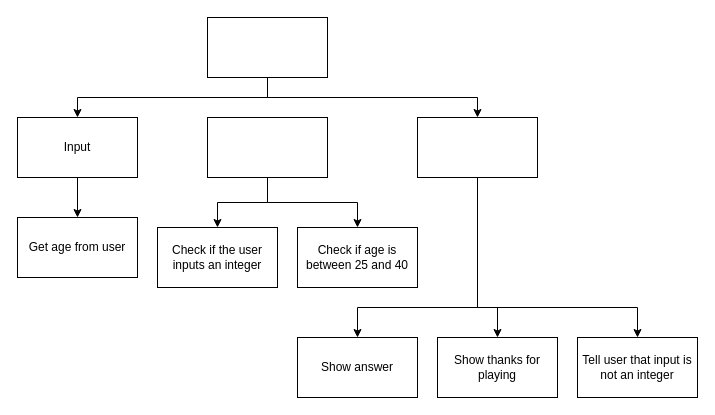
Some shapes in this 715 by 415 pixel diagram are drawn without their labels. Here are the shapes that lost their labels. From the top down, the centre of each, then its label:
pixel 267 47: Random Number Guessing Game
pixel 267 147: Process
pixel 477 147: Output
